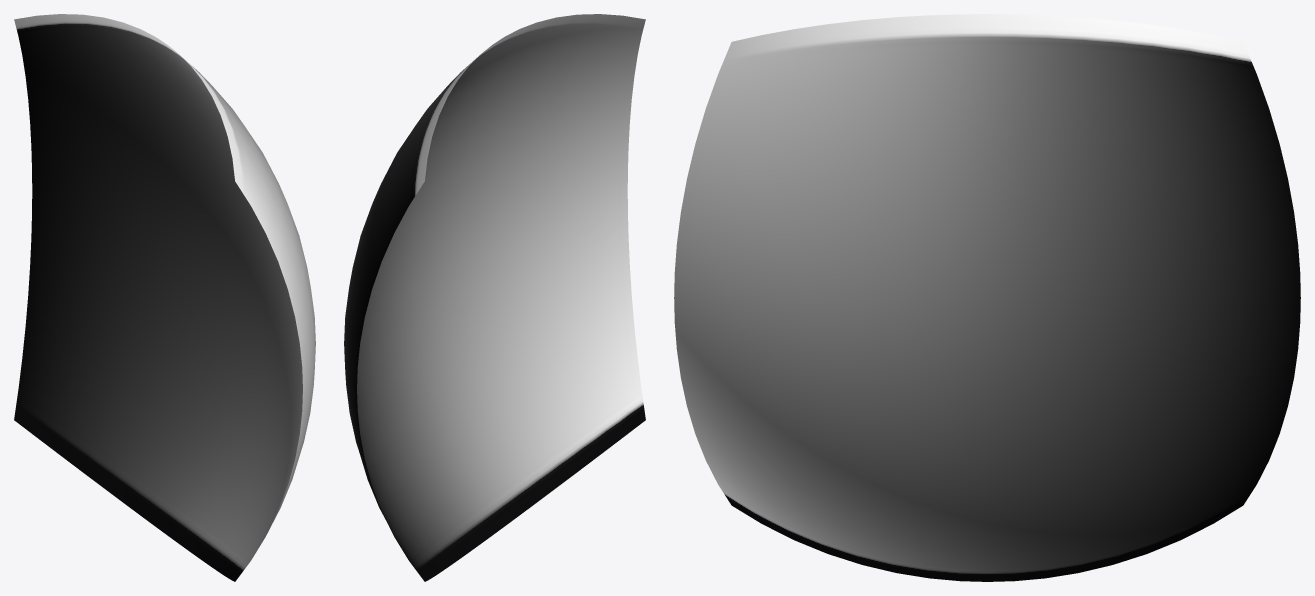
Rendered from test_0.0_True_False.glb.
The picture shows the model from 3 angles, left to right: view 1: azimuth 30°, elevation 25°; view 2: azimuth 150°, elevation 25°; view 3: azimuth 270°, elevation 25°; orthographic projection. The views are drawn at different scales.
Size of the model in its own units: 734312 by 2457055 by 2457055.
1 material, 1 textured.
